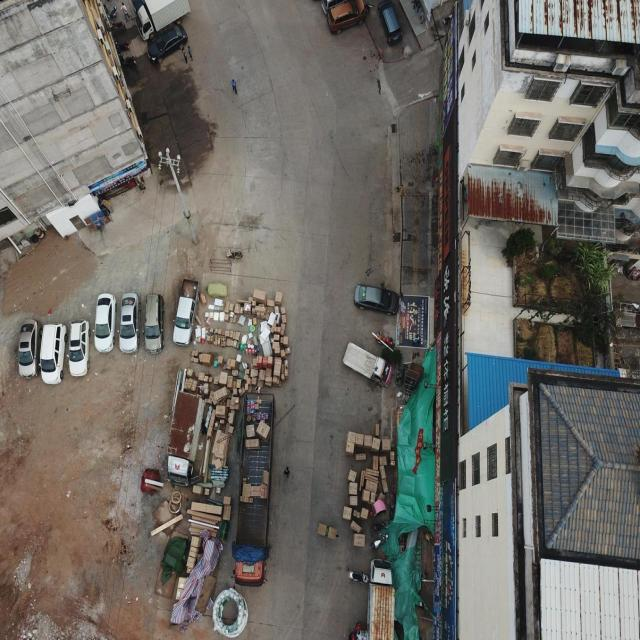p3rson: (120, 1, 130, 22), (230, 77, 237, 94), (283, 466, 290, 480), (182, 46, 188, 62), (187, 44, 192, 61), (348, 632, 358, 640), (364, 2, 370, 15), (355, 622, 361, 634), (413, 334, 419, 344)
